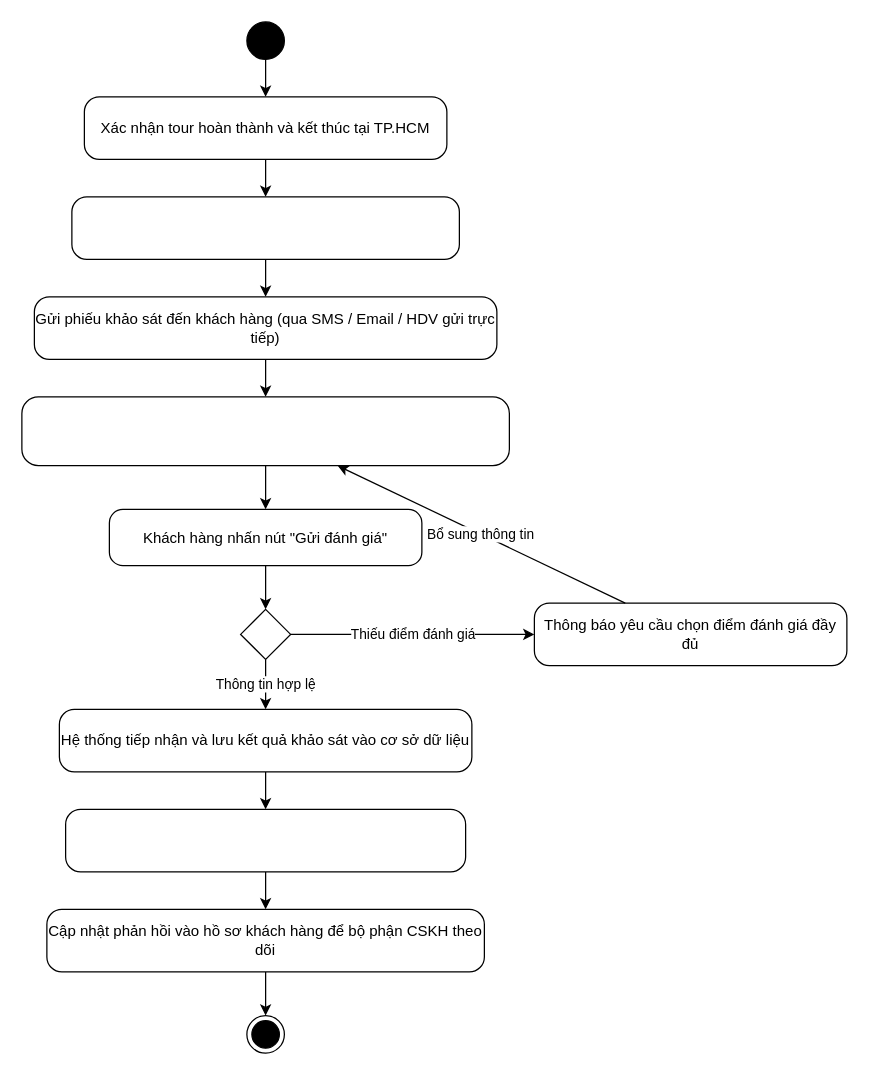
Some shapes in this 869 by 1075 pixel diagram are drawn without their labels. Here are the shapes that lost their labels. From the top down, the centre of each, then its label:
the point at 265,227: Hệ thống tự động kích hoạt tạo phiếu khảo sát chất lượng
the point at 265,431: Khách hàng điền điểm đánh giá (HDV, khách sạn, ăn uống) và viết ý kiến góp ý
the point at 265,840: Tính toán cập nhật điểm đánh giá trung bình cho tour du lịch
